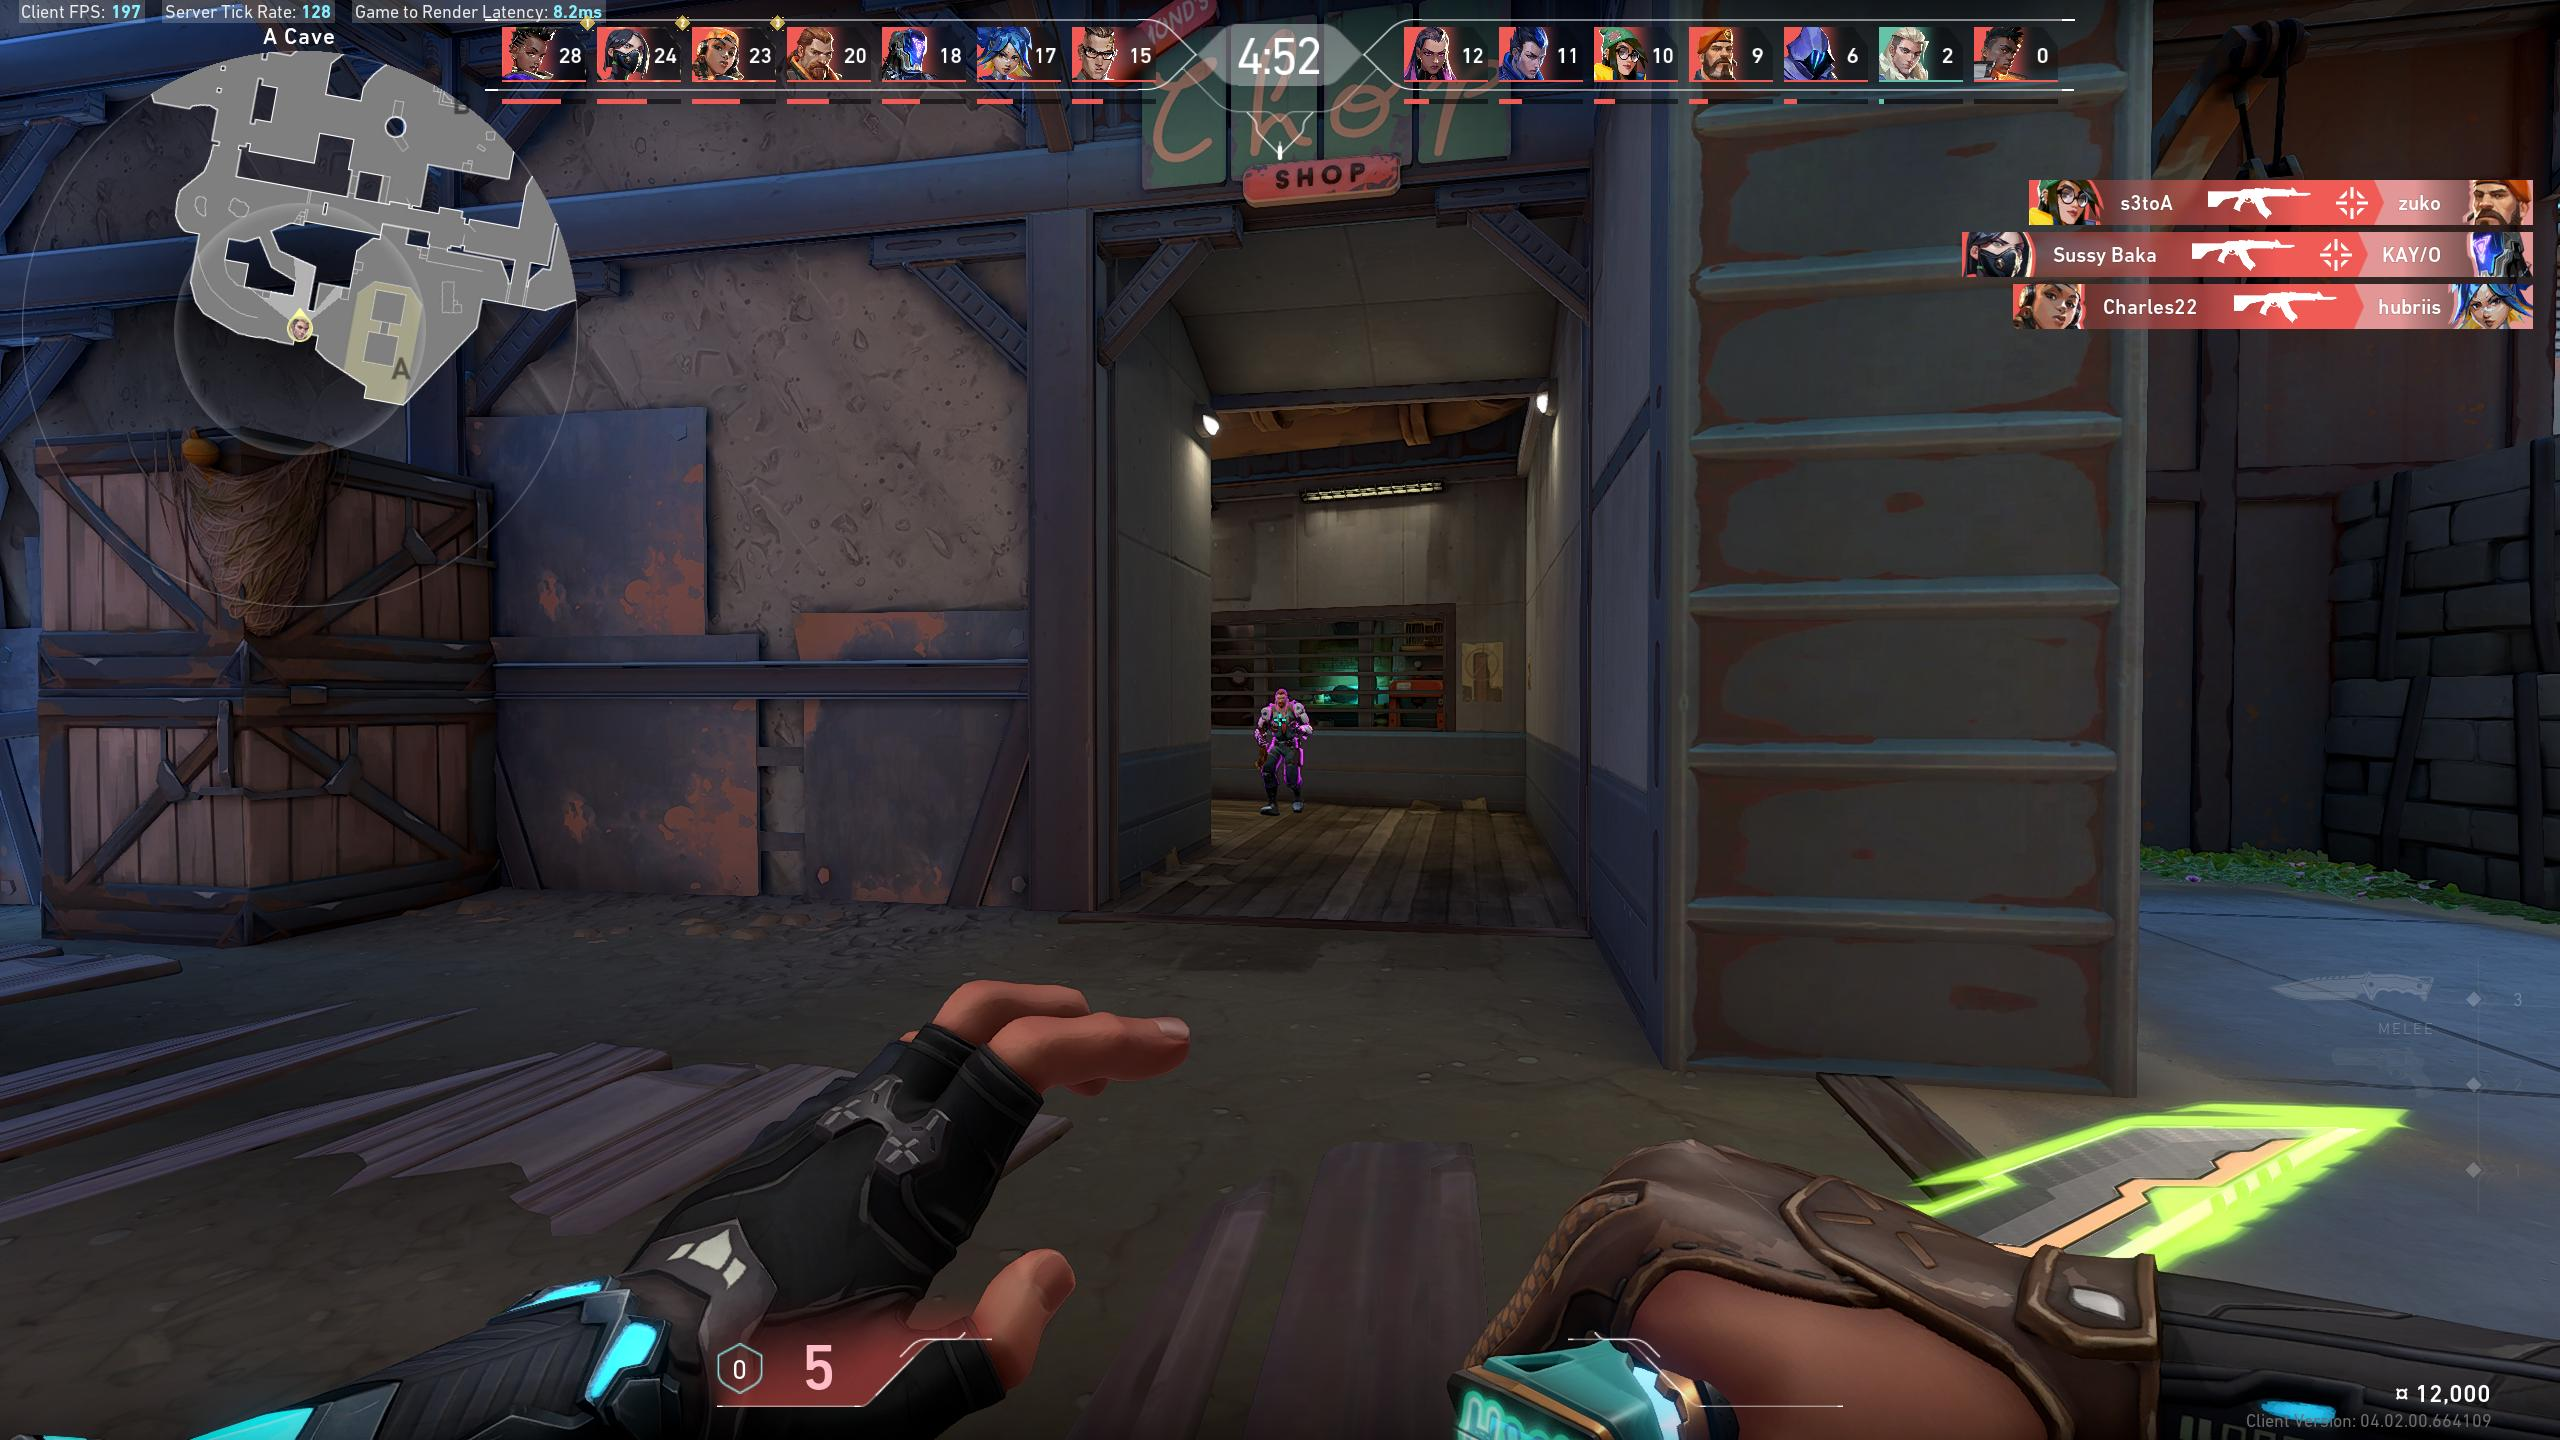enemyBody: (1271, 709, 1291, 733)
enemyHead: (1276, 695, 1285, 707)
